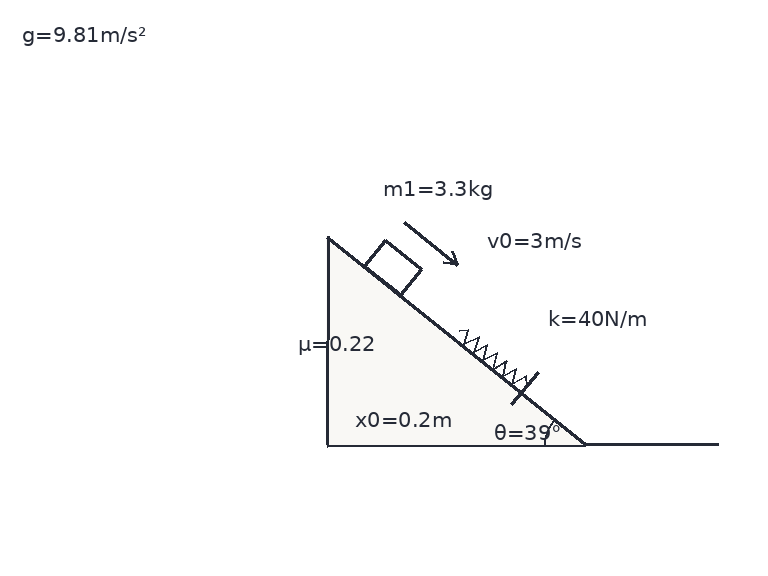block: (362, 238, 423, 297)
ramp: (325, 234, 587, 447)
spring: (457, 328, 528, 388)
